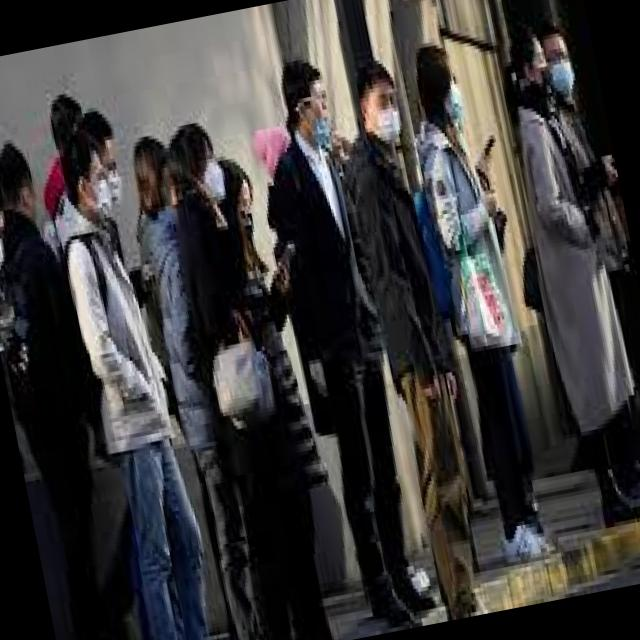Jacket: (501, 95, 640, 451), (205, 228, 338, 518), (55, 206, 182, 477), (406, 121, 532, 388), (338, 136, 461, 403), (0, 207, 107, 502), (128, 194, 244, 465), (258, 142, 382, 388)
